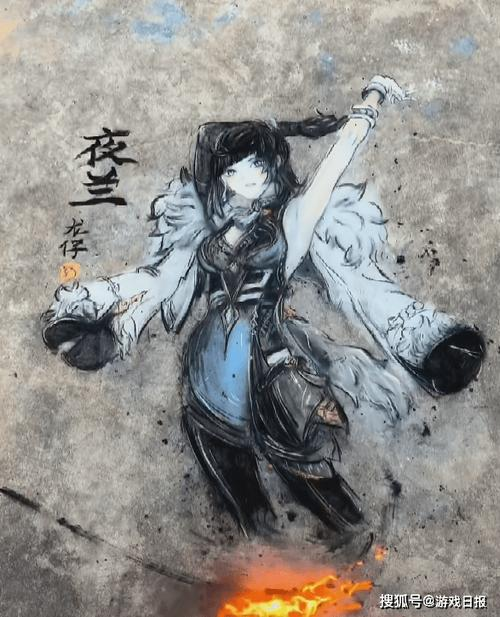夜兰: (178, 72, 424, 553)
